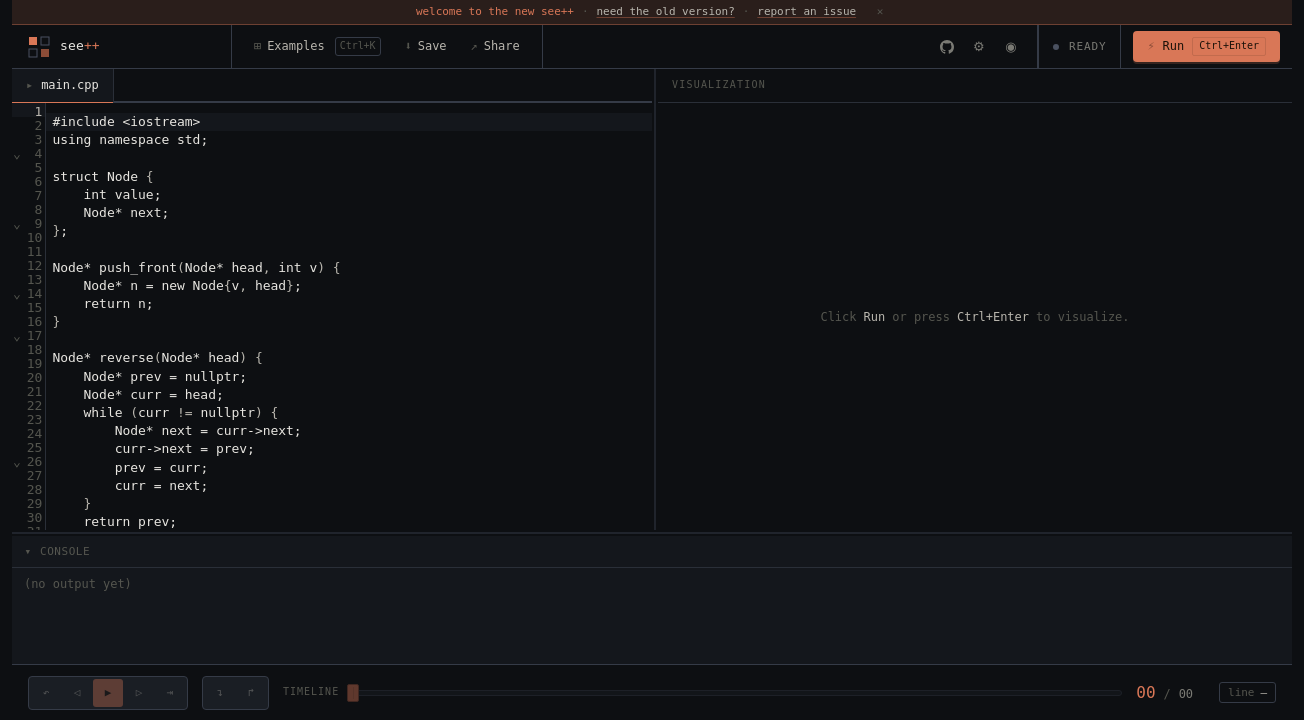
App › Run → renders stack frames from the validated trace and steps advance
What coordinates should you click on to do the following:
click the button with test id "run-button"
I would click on:
 (1207, 47)
Its box is [1133,31,1280,62].
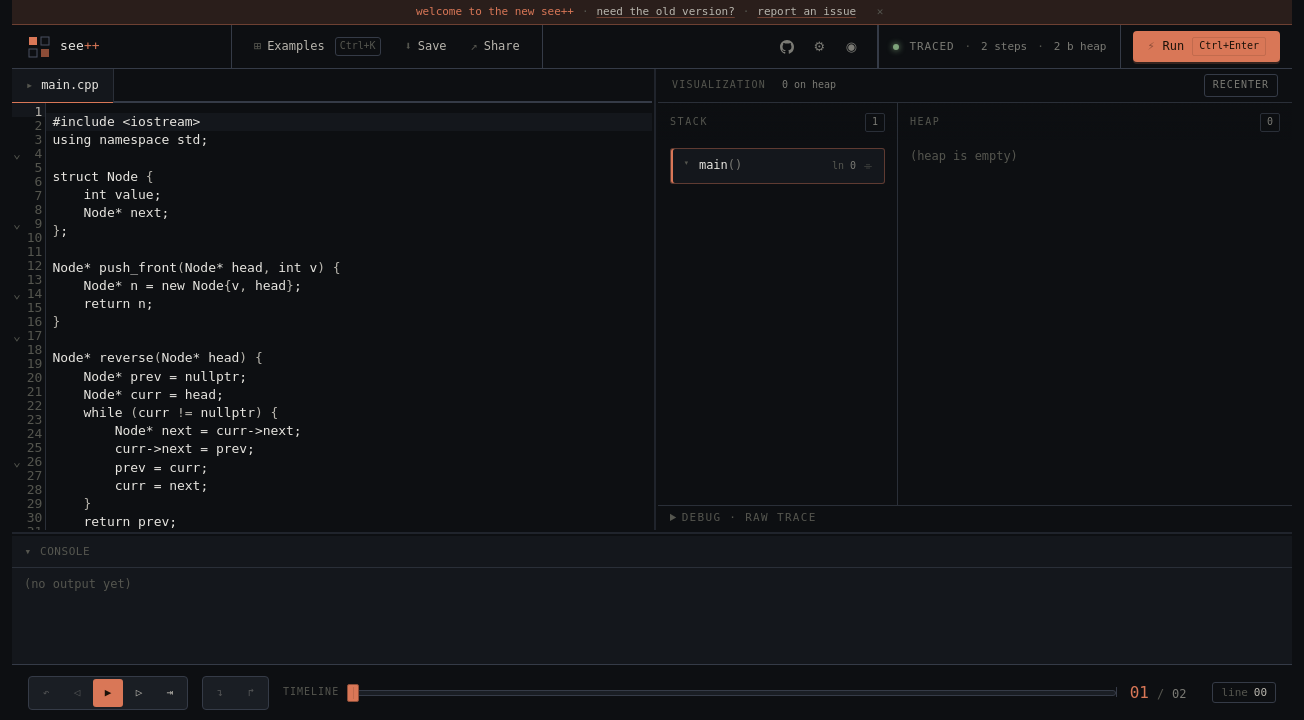
Expected: the list with test id "stack-frames" is shown, [658,148,897,204]
Expected: the element with test id "exec-counter" reads "01 / 02", [1130,681,1186,704]
What coordinates should you click on to do the following:
click the button with test id "exec-step-forward"
I would click on:
 (139, 692)
Its box is [124,678,154,706].
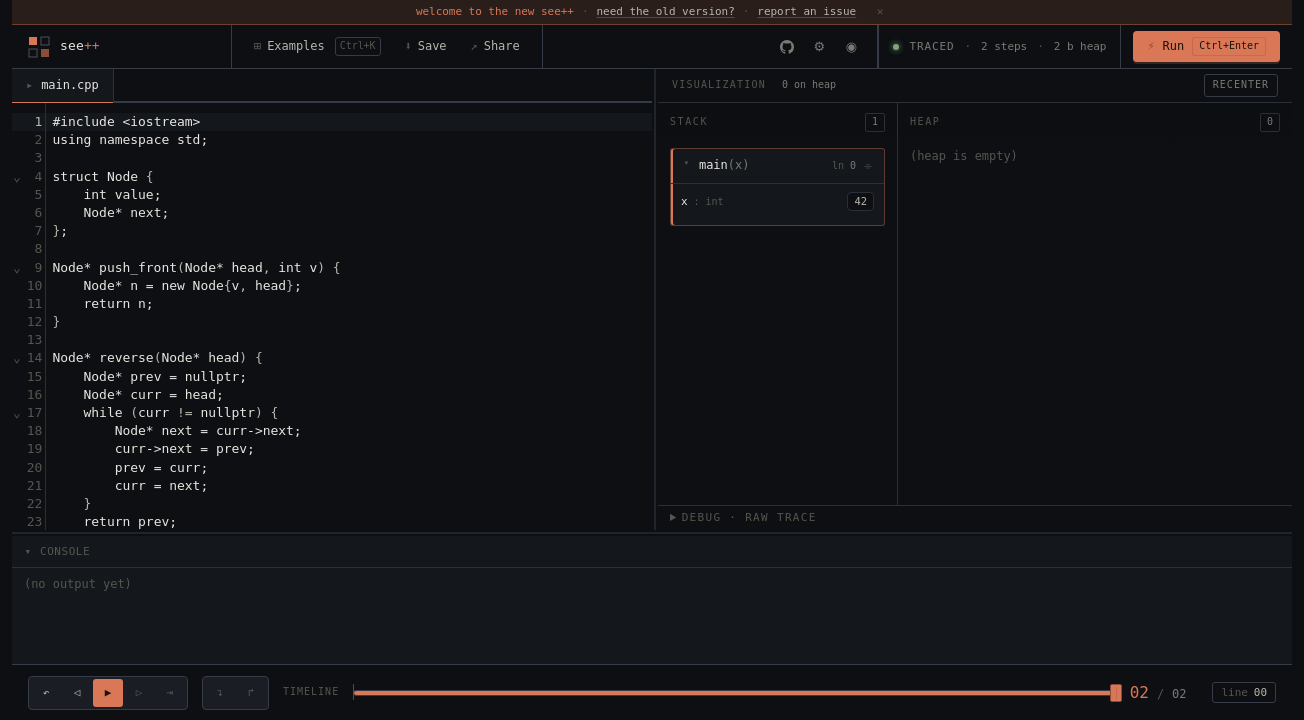
Expected: the element with test id "exec-counter" reads "02 / 02", [1130,681,1186,704]
Expected: the element with test id "local-x" shows "42", [854,195,867,207]
